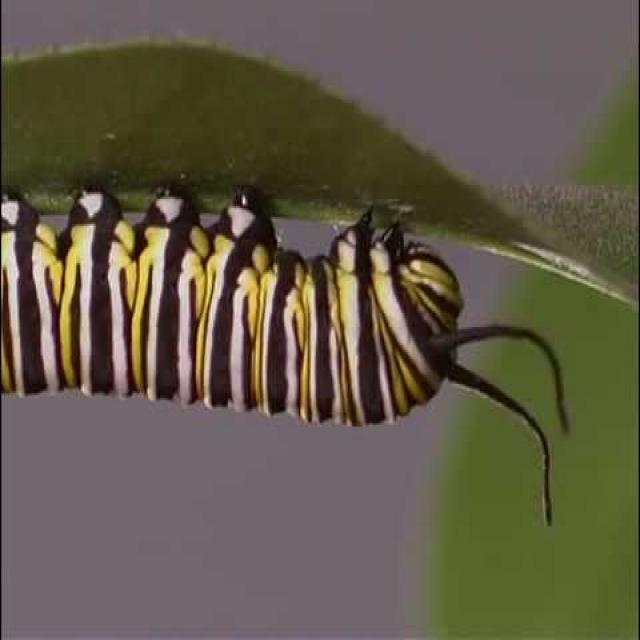caterpillar: (0, 107, 515, 501)
